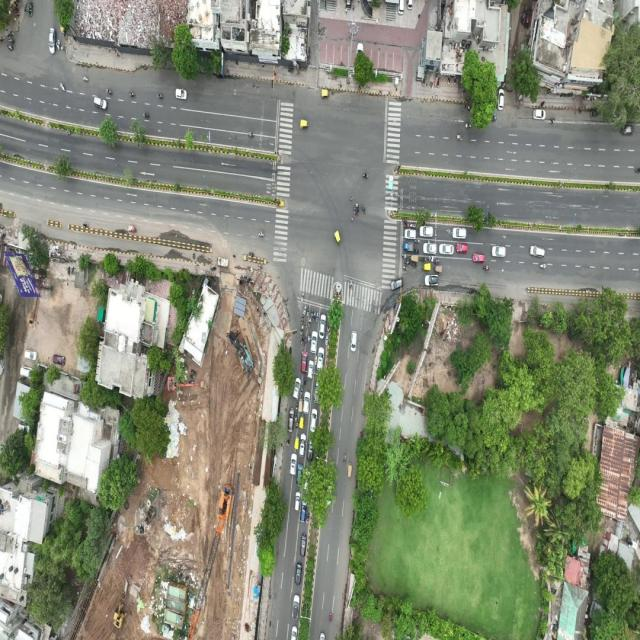3W: (22, 0, 38, 21), (332, 227, 344, 250), (297, 116, 312, 133), (297, 407, 307, 432), (318, 85, 332, 102), (345, 459, 355, 481), (408, 250, 422, 265), (293, 428, 301, 454), (432, 261, 445, 276), (420, 261, 434, 273), (296, 394, 304, 415)
Cars: (291, 375, 305, 405), (416, 221, 436, 240), (522, 5, 535, 33), (285, 404, 296, 437), (299, 347, 310, 380), (450, 224, 470, 242), (296, 430, 308, 459), (437, 241, 456, 259), (317, 311, 328, 342), (92, 94, 109, 114), (292, 590, 302, 624), (292, 558, 304, 586), (309, 328, 321, 356), (389, 273, 404, 295), (19, 364, 36, 383), (619, 123, 638, 140), (423, 271, 440, 290), (309, 407, 319, 438), (306, 434, 316, 465), (528, 243, 546, 260), (402, 226, 420, 243), (23, 346, 39, 365), (289, 450, 299, 480), (173, 85, 189, 103), (50, 352, 68, 368), (299, 494, 308, 526), (491, 242, 507, 260), (421, 240, 439, 256), (299, 530, 309, 558), (292, 489, 303, 514), (48, 24, 56, 58), (532, 106, 548, 123), (316, 344, 325, 374), (301, 390, 311, 417), (295, 461, 305, 487), (454, 242, 470, 258), (306, 357, 316, 382), (471, 251, 487, 266), (496, 86, 505, 112), (313, 379, 321, 408), (355, 40, 365, 63), (349, 329, 358, 354), (17, 420, 30, 436), (289, 623, 300, 640), (396, 0, 406, 17), (343, 0, 354, 14), (316, 630, 329, 640), (406, 0, 416, 13)
LCV: (400, 237, 415, 254), (588, 106, 601, 122), (126, 221, 138, 234)
M2W: (488, 110, 501, 126), (360, 200, 371, 218), (206, 259, 218, 275), (536, 257, 548, 273), (547, 110, 557, 128), (5, 41, 18, 54), (55, 34, 63, 55), (4, 30, 18, 42), (360, 168, 370, 184), (58, 79, 68, 95), (434, 71, 442, 91), (632, 162, 640, 182), (304, 509, 312, 528), (156, 89, 166, 104), (81, 220, 93, 232), (247, 245, 256, 261), (298, 288, 306, 306), (480, 262, 492, 274), (454, 130, 465, 143), (409, 258, 419, 272), (352, 203, 361, 218), (347, 275, 354, 294), (301, 299, 308, 318), (142, 108, 152, 121), (127, 87, 137, 100), (105, 86, 115, 99), (80, 73, 90, 86), (304, 304, 312, 320), (285, 434, 293, 450), (247, 128, 257, 140), (188, 377, 198, 389), (188, 367, 200, 377), (425, 252, 435, 264), (328, 606, 334, 625), (314, 308, 320, 327), (304, 314, 310, 333), (341, 452, 348, 468), (257, 229, 267, 240), (255, 262, 265, 273), (408, 221, 419, 231), (464, 119, 473, 131), (400, 249, 409, 261), (310, 304, 316, 321), (312, 306, 318, 323), (312, 351, 318, 368), (452, 73, 458, 90), (464, 103, 473, 114), (302, 373, 309, 387), (307, 315, 313, 331), (294, 410, 300, 426), (413, 235, 421, 247), (295, 414, 300, 433), (414, 244, 421, 257), (188, 372, 198, 381), (302, 333, 308, 348), (324, 333, 330, 348), (326, 320, 332, 335), (418, 254, 427, 264), (401, 222, 410, 232), (401, 263, 410, 273), (6, 38, 17, 46), (299, 322, 305, 336), (446, 74, 452, 88), (295, 398, 300, 414), (307, 331, 312, 346), (299, 312, 305, 324), (299, 334, 305, 346), (299, 384, 305, 396), (402, 258, 411, 266), (433, 256, 440, 266), (400, 217, 410, 224)
Truck: (215, 252, 231, 270)
